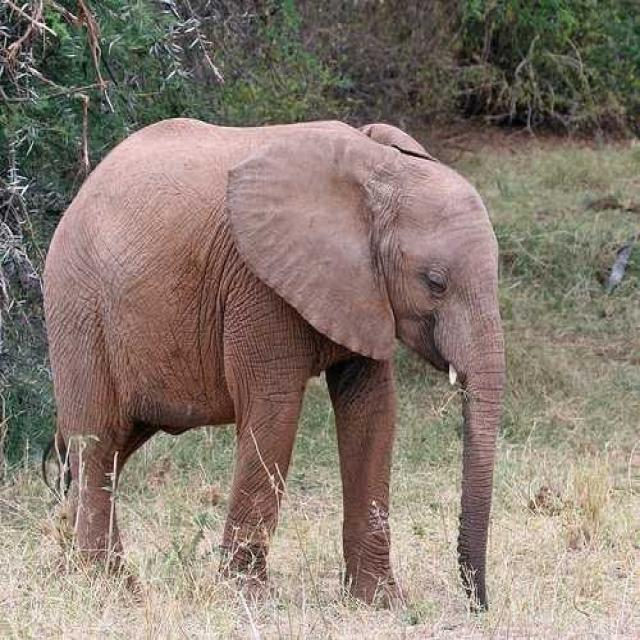Elephant: (39, 115, 506, 616)
